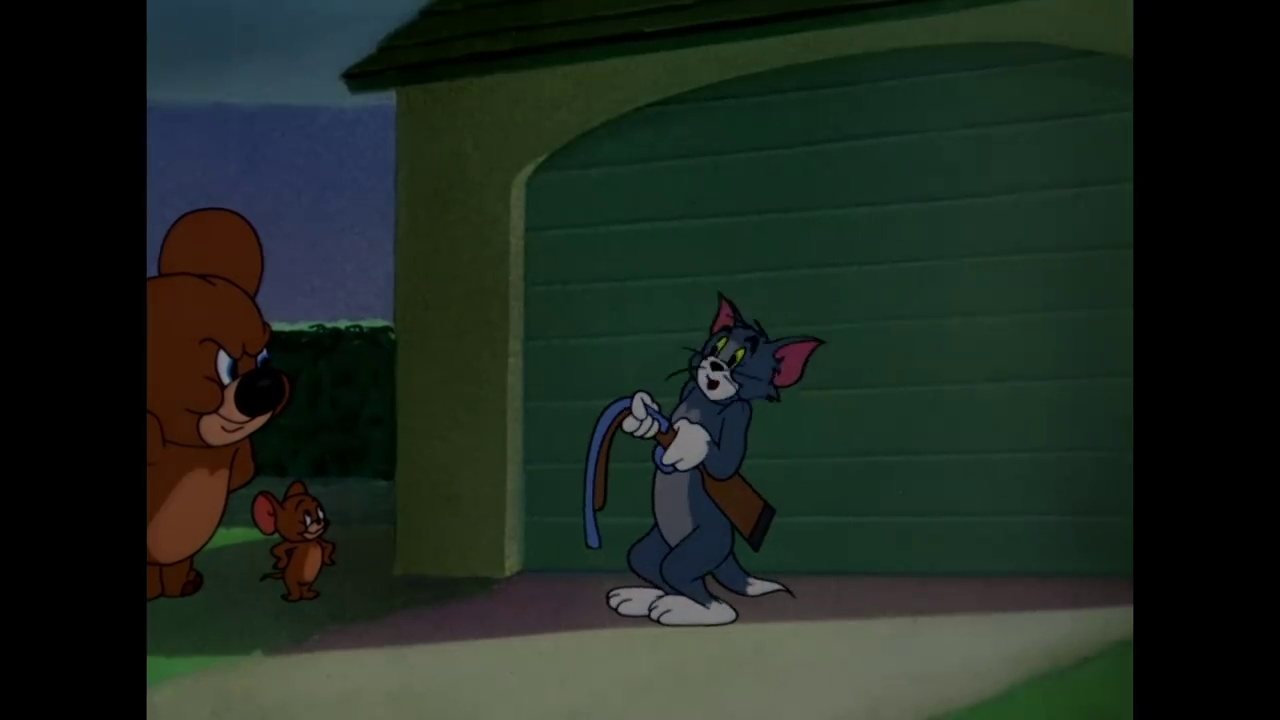tom: (677, 293, 821, 413)
